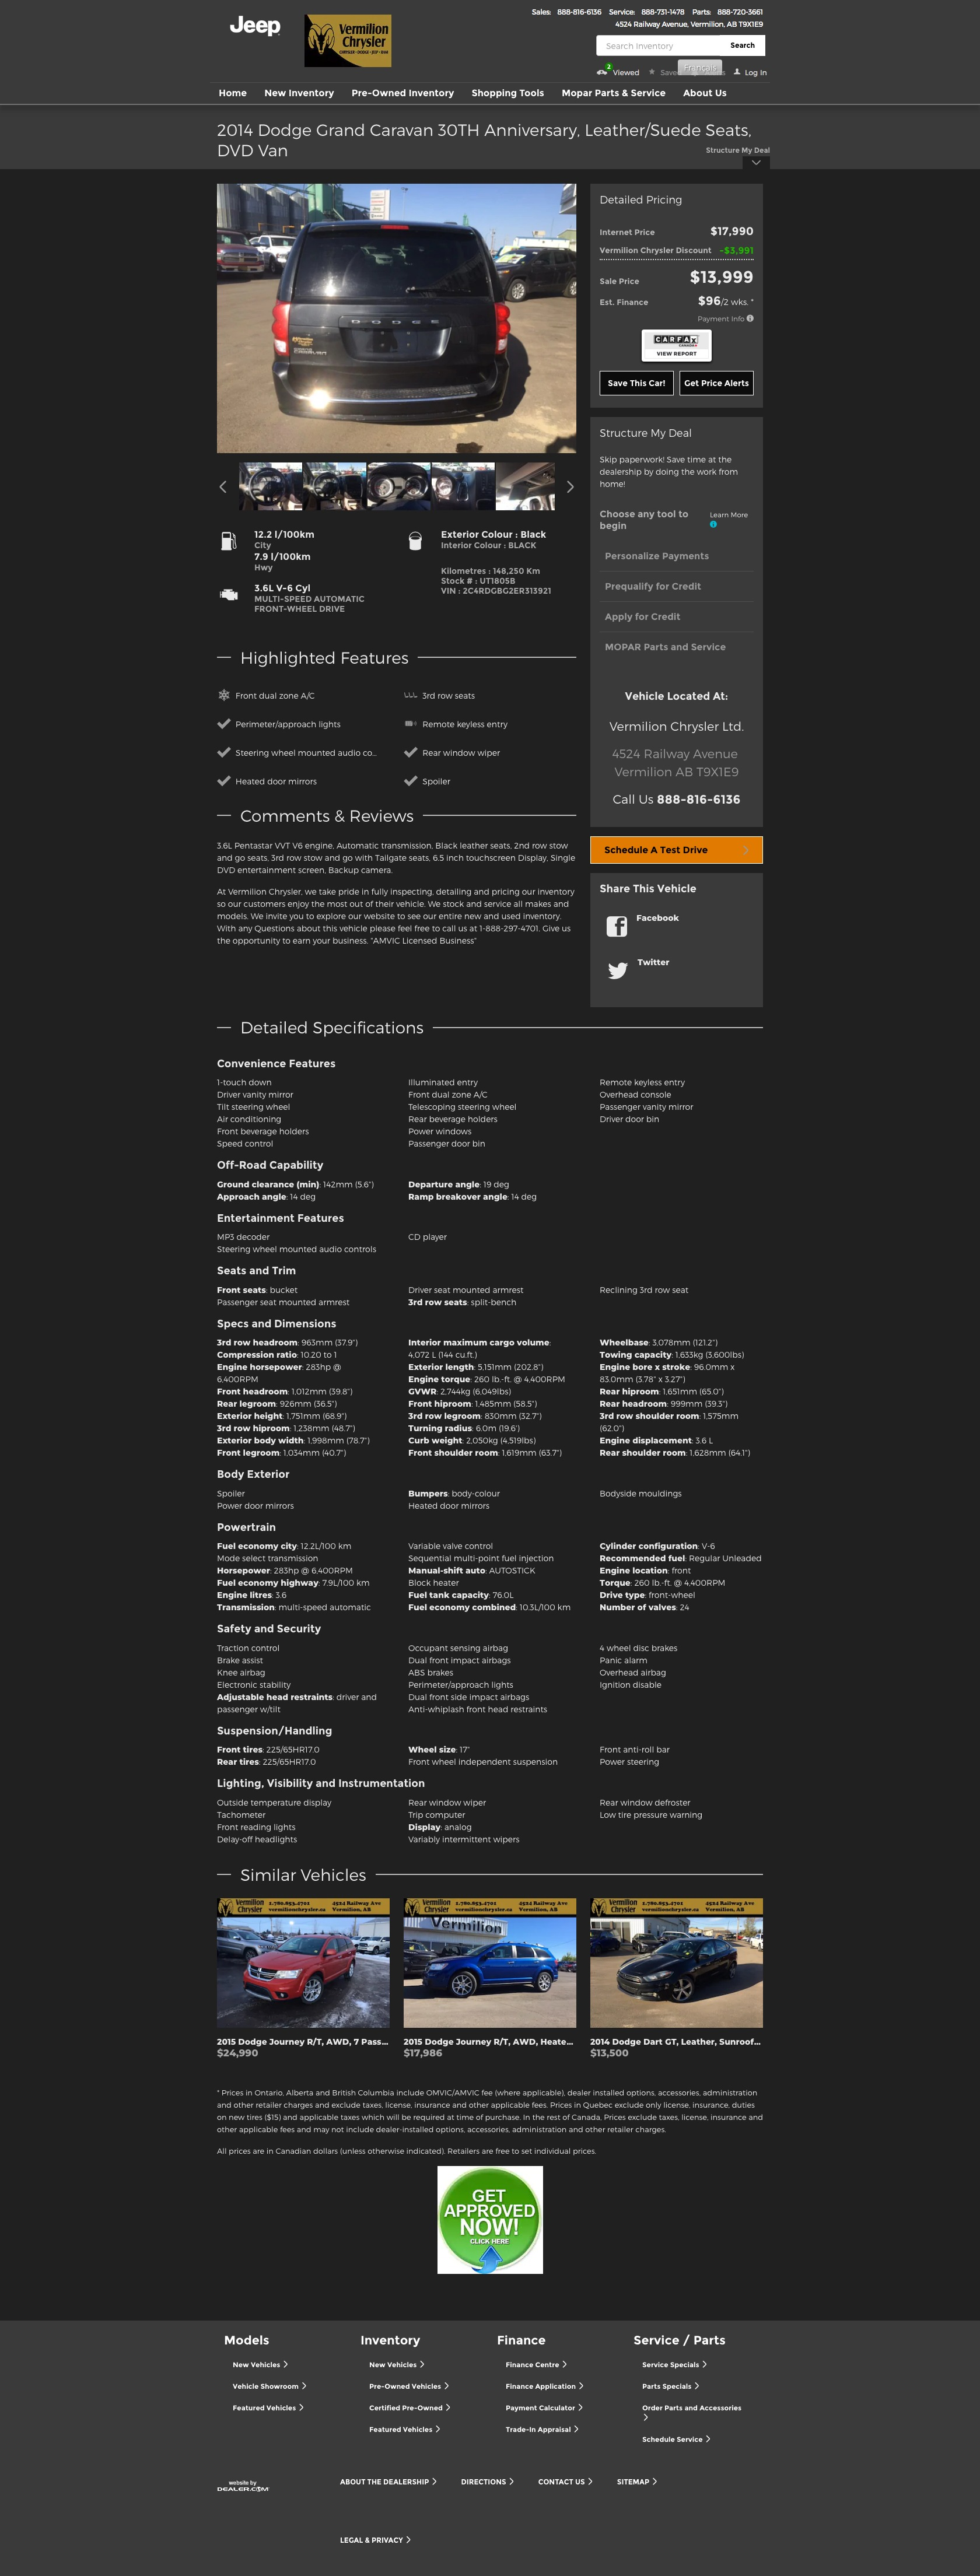car: (566, 481, 576, 494)
